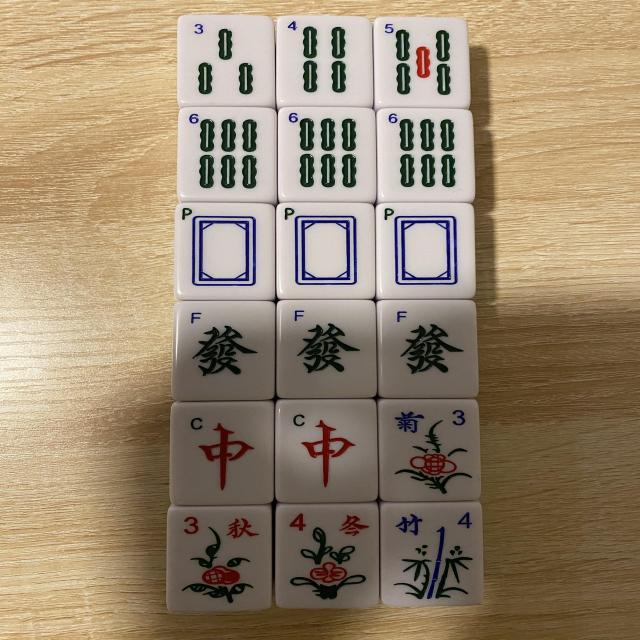bf3: (380, 400, 482, 500)
bf4: (381, 503, 483, 603)
bs3: (168, 508, 270, 607)
bs4: (275, 504, 380, 606)
hdg: (376, 300, 478, 398), (276, 301, 376, 397), (174, 302, 274, 398)
hdr: (275, 400, 378, 500), (172, 403, 274, 503)
hdw: (176, 203, 275, 299), (276, 202, 374, 298), (376, 203, 474, 298)
sb3: (178, 15, 272, 105)
sb4: (276, 17, 374, 106)
sb5: (373, 18, 469, 106)
sb6: (178, 108, 276, 202), (376, 108, 472, 202), (278, 108, 375, 200)
